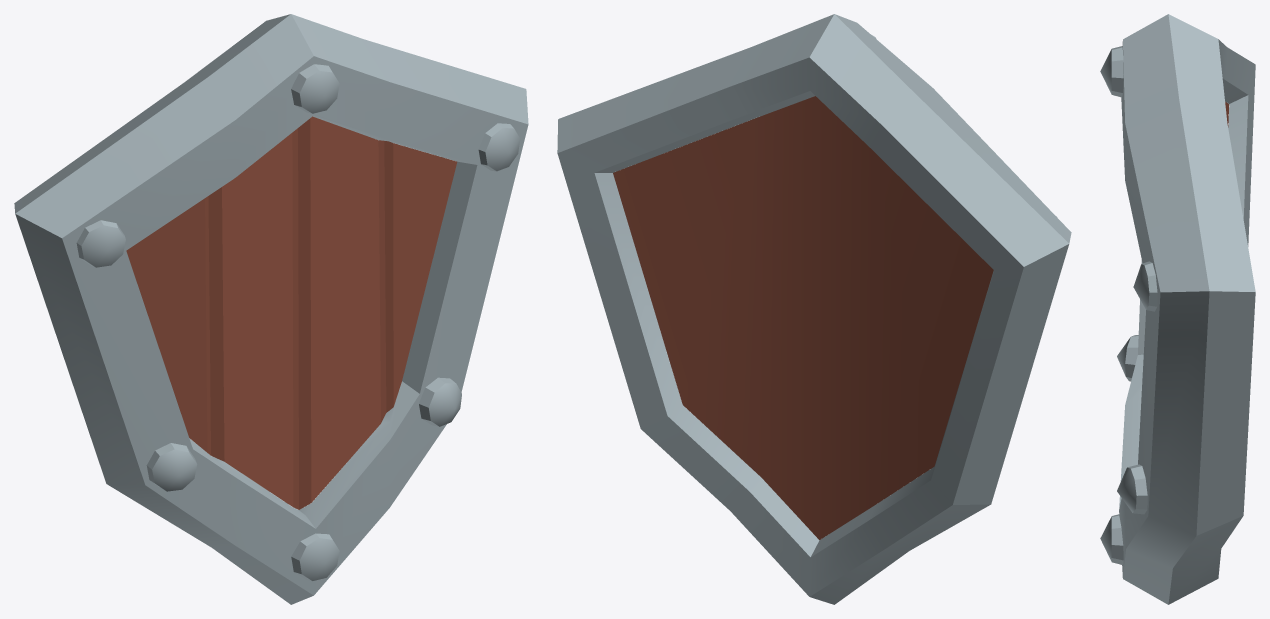
The model's file is shield.gltf.
3 views of the same model, side by side, from view 1: azimuth 30°, elevation 25°; view 2: azimuth 150°, elevation 25°; view 3: azimuth 270°, elevation 25° (orthographic).
Visible parts, largest first — view 1: Cube4204, Cube4204_1; view 2: Cube4204_1, Cube4204; view 3: Cube4204.
Boxes of the visible parts, x1,y1,x2,y2 form: Cube4204: (14,14,528,604); Cube4204_1: (126,116,457,509); Cube4204_1: (613,96,993,539); Cube4204: (557,14,1071,604); Cube4204: (1100,14,1255,604).
Bounding box in the file's own units: 0.7567 × 0.8359 × 0.1993.
